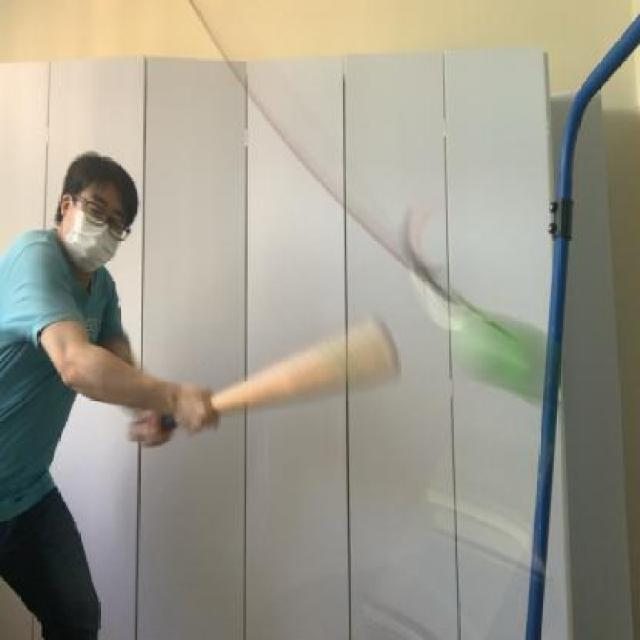baseball: (450, 306, 567, 414)
